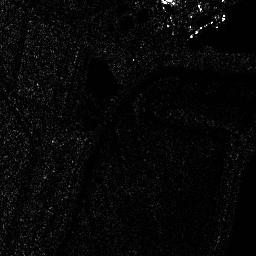ship: (189, 11, 224, 41)
